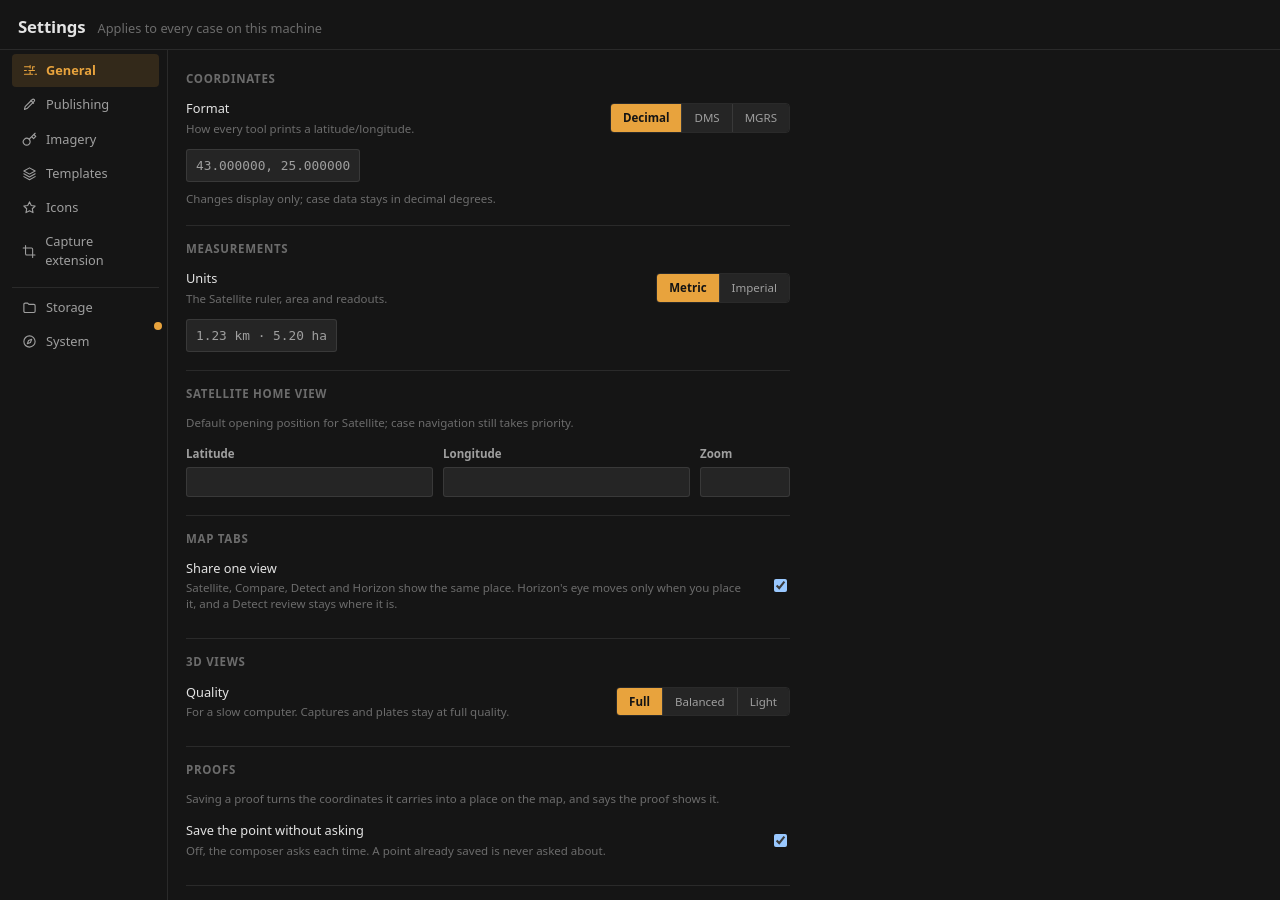
Scenario: each section › Extension links the XPI on the release that carries it, not the newest one
The image size is (1280, 900).
Click the button with class "rail-tab" showing "Capture extension": (86, 251) [12,225,159,278]
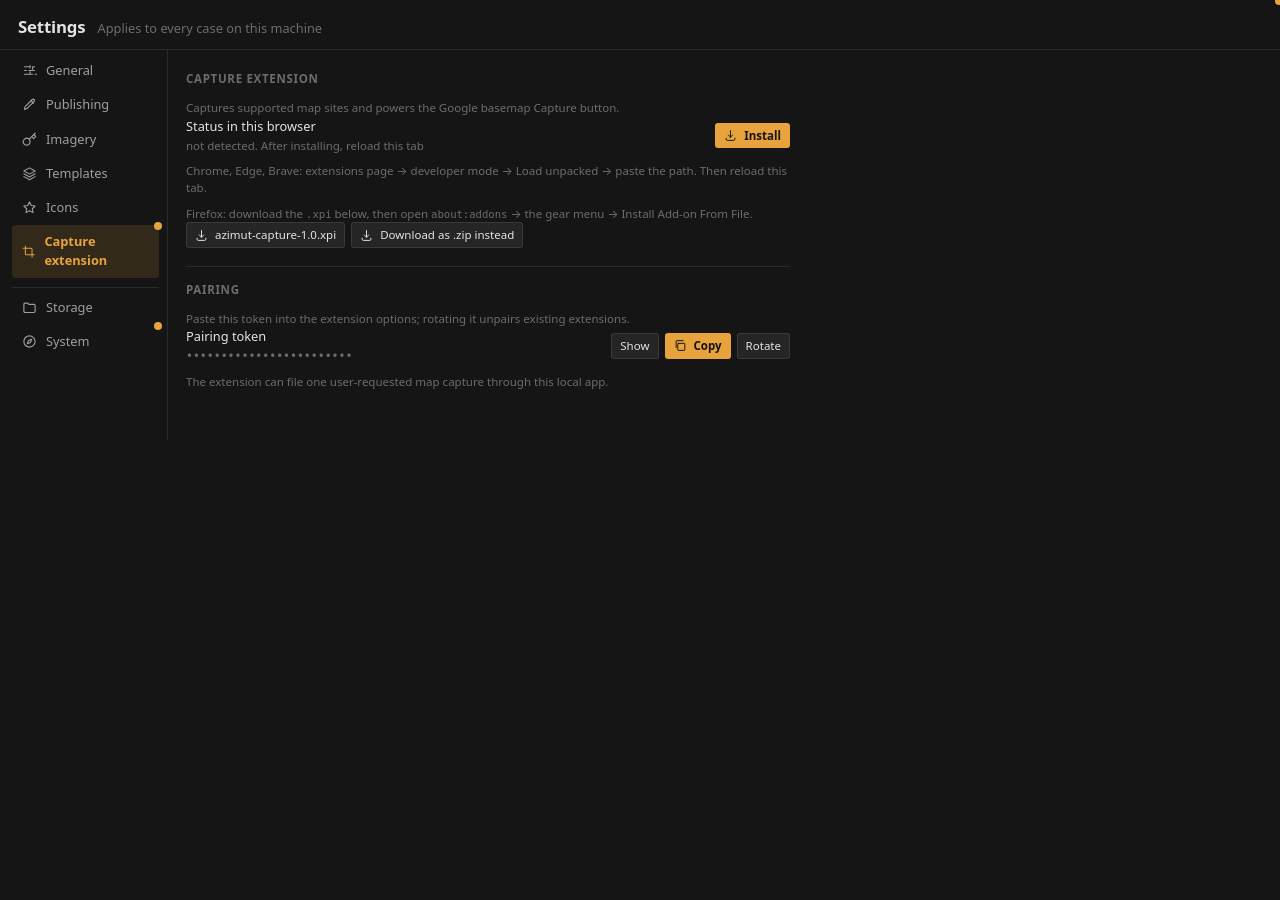
Check: the element that starts with "Capture extension" shows "azimut-capture-1.0.xpi", box [186,222,345,248]
